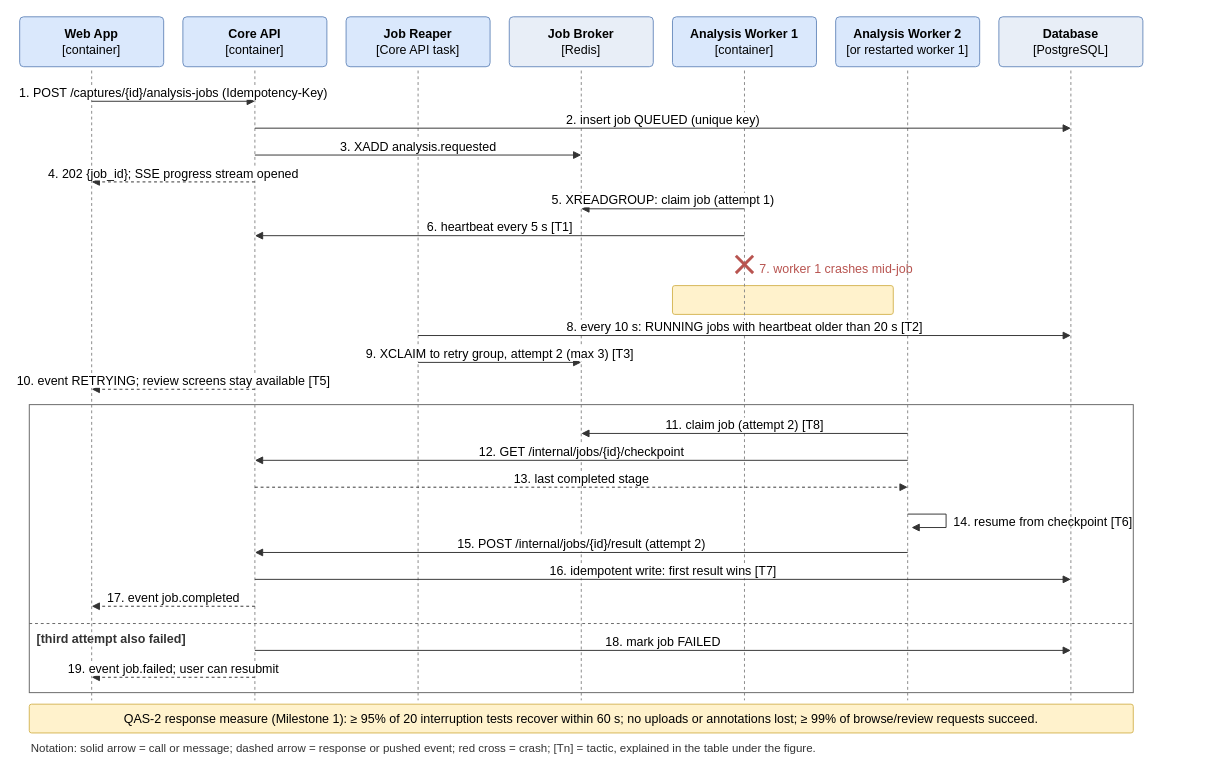
Image size: 1217x772. Some labels were removed from this diagram. The box of each missing label's shape, as (x1, y1, x2, y2) in pixels:
alt [attempt ≤ 3 and worker available]: (28, 404, 1133, 693)
Docker restart policy restarts it [T4]: (672, 285, 893, 314)
